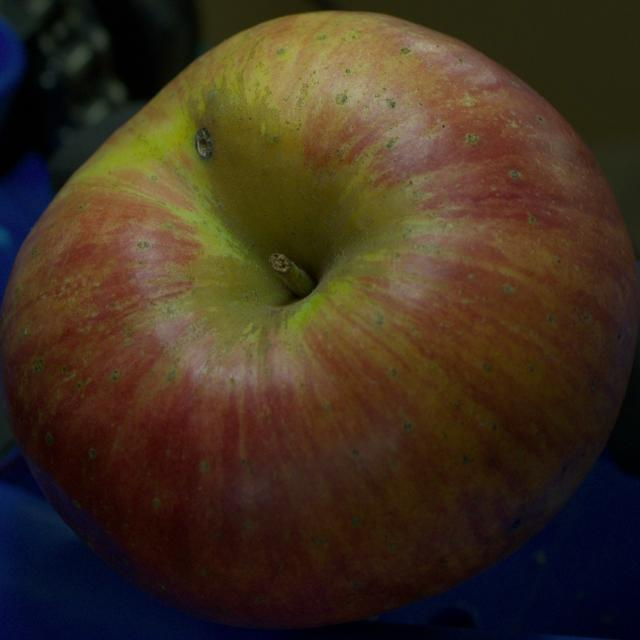apple: (0, 12, 639, 626)
pest: (194, 127, 213, 160)
